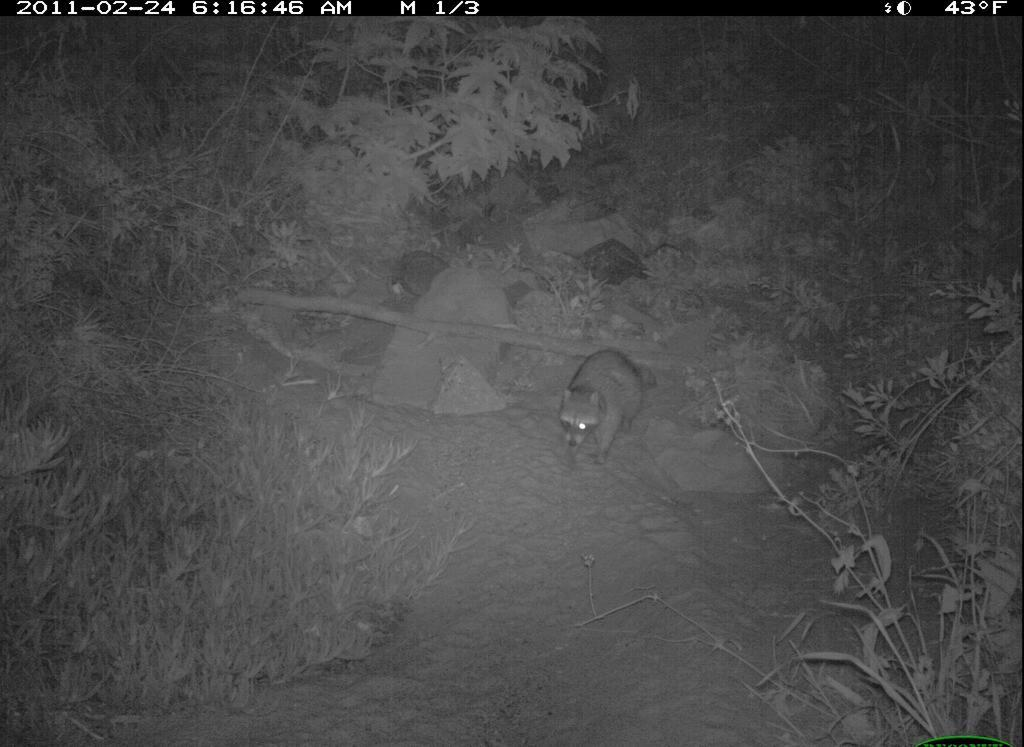raccoon: (551, 333, 657, 461)
